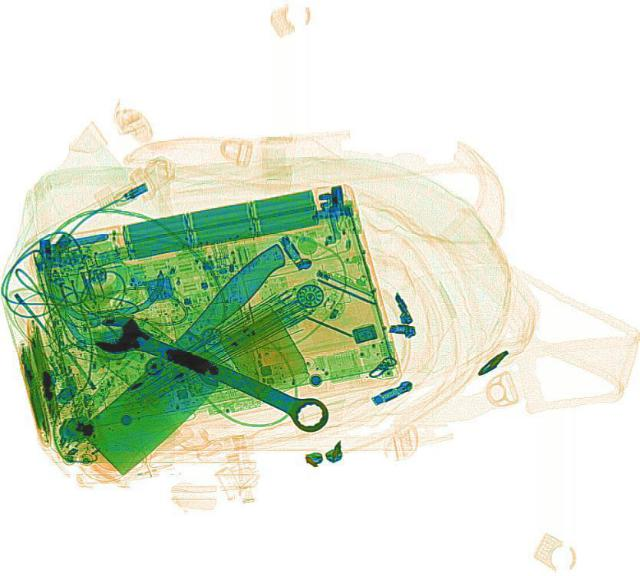Knife: (64, 238, 328, 475)
Wrench: (84, 304, 334, 441)
